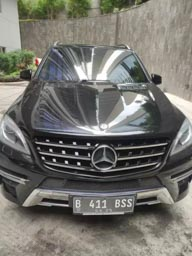plat: (72, 196, 135, 208)
